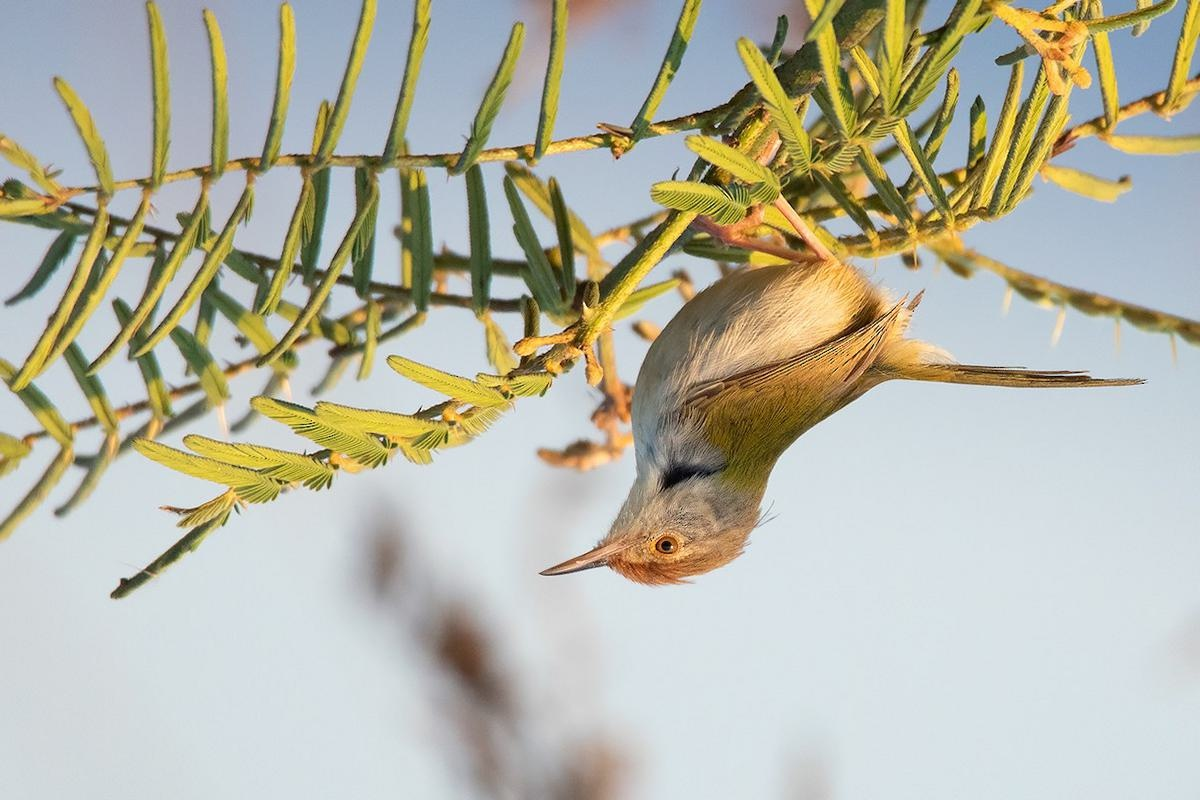tailorbird: (525, 236, 1063, 627)
